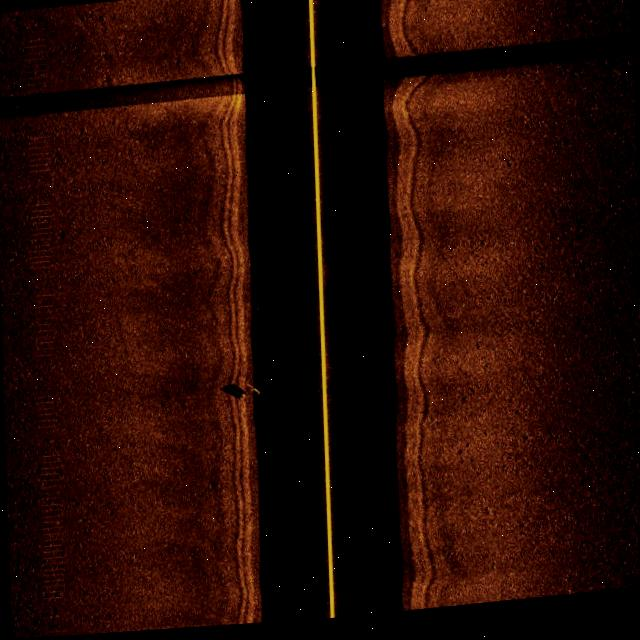mine: (214, 380, 264, 405)
